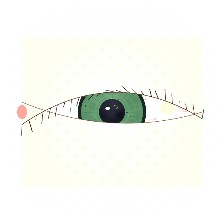pinguecula_lesion: (152, 96, 183, 120)
